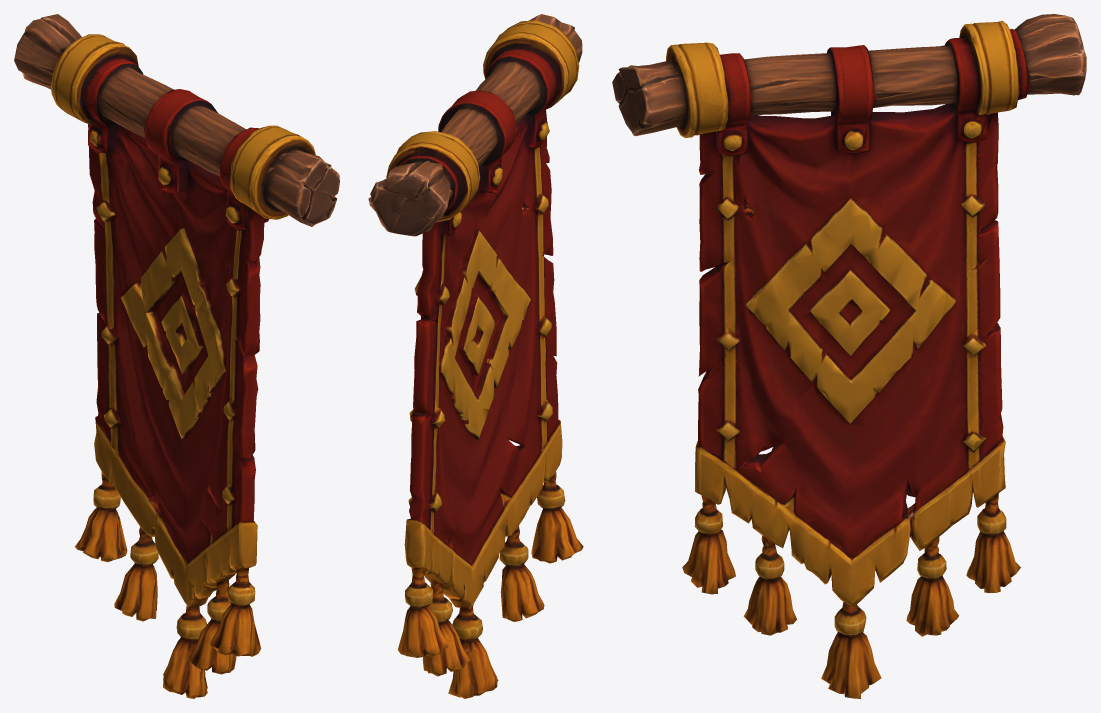
Rendered from banner.glb.
3 renders of one model, left to right at view 1: azimuth 30°, elevation 25°; view 2: azimuth 150°, elevation 25°; view 3: azimuth 270°, elevation 25°, orthographic. The views are drawn at different scales.
Parts seen in each view (by area): view 1: tripo_node_3c9fd673-2b6a-4215-bdb0-1981415814ce; view 2: tripo_node_3c9fd673-2b6a-4215-bdb0-1981415814ce; view 3: tripo_node_3c9fd673-2b6a-4215-bdb0-1981415814ce.
Boxes of the visible parts, x1,y1,x2,y2 form: tripo_node_3c9fd673-2b6a-4215-bdb0-1981415814ce: (14,14,339,698); tripo_node_3c9fd673-2b6a-4215-bdb0-1981415814ce: (368,14,583,698); tripo_node_3c9fd673-2b6a-4215-bdb0-1981415814ce: (612,14,1086,698).
Bounding box in the file's own units: 0.225 × 1 × 0.6575.
Materials: 1 (1 with a texture image).
